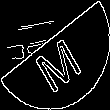M_NW: (26, 21, 84, 89)
